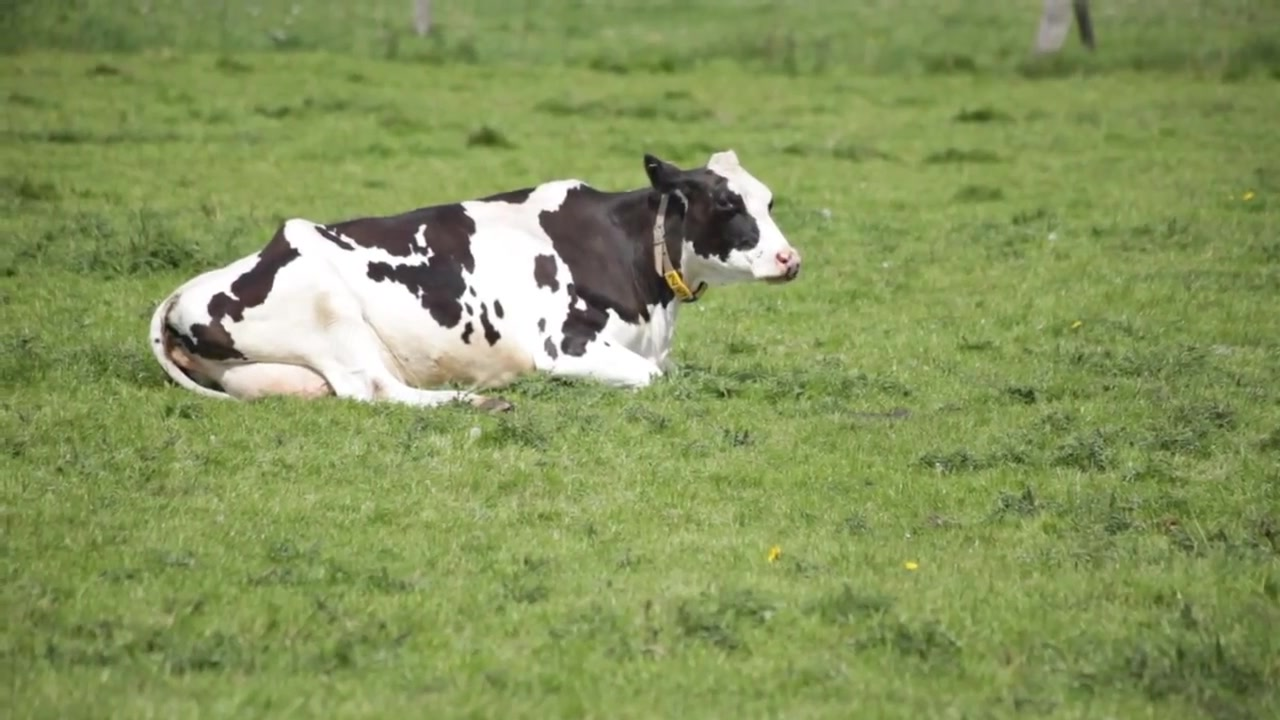cow: (152, 142, 801, 410)
